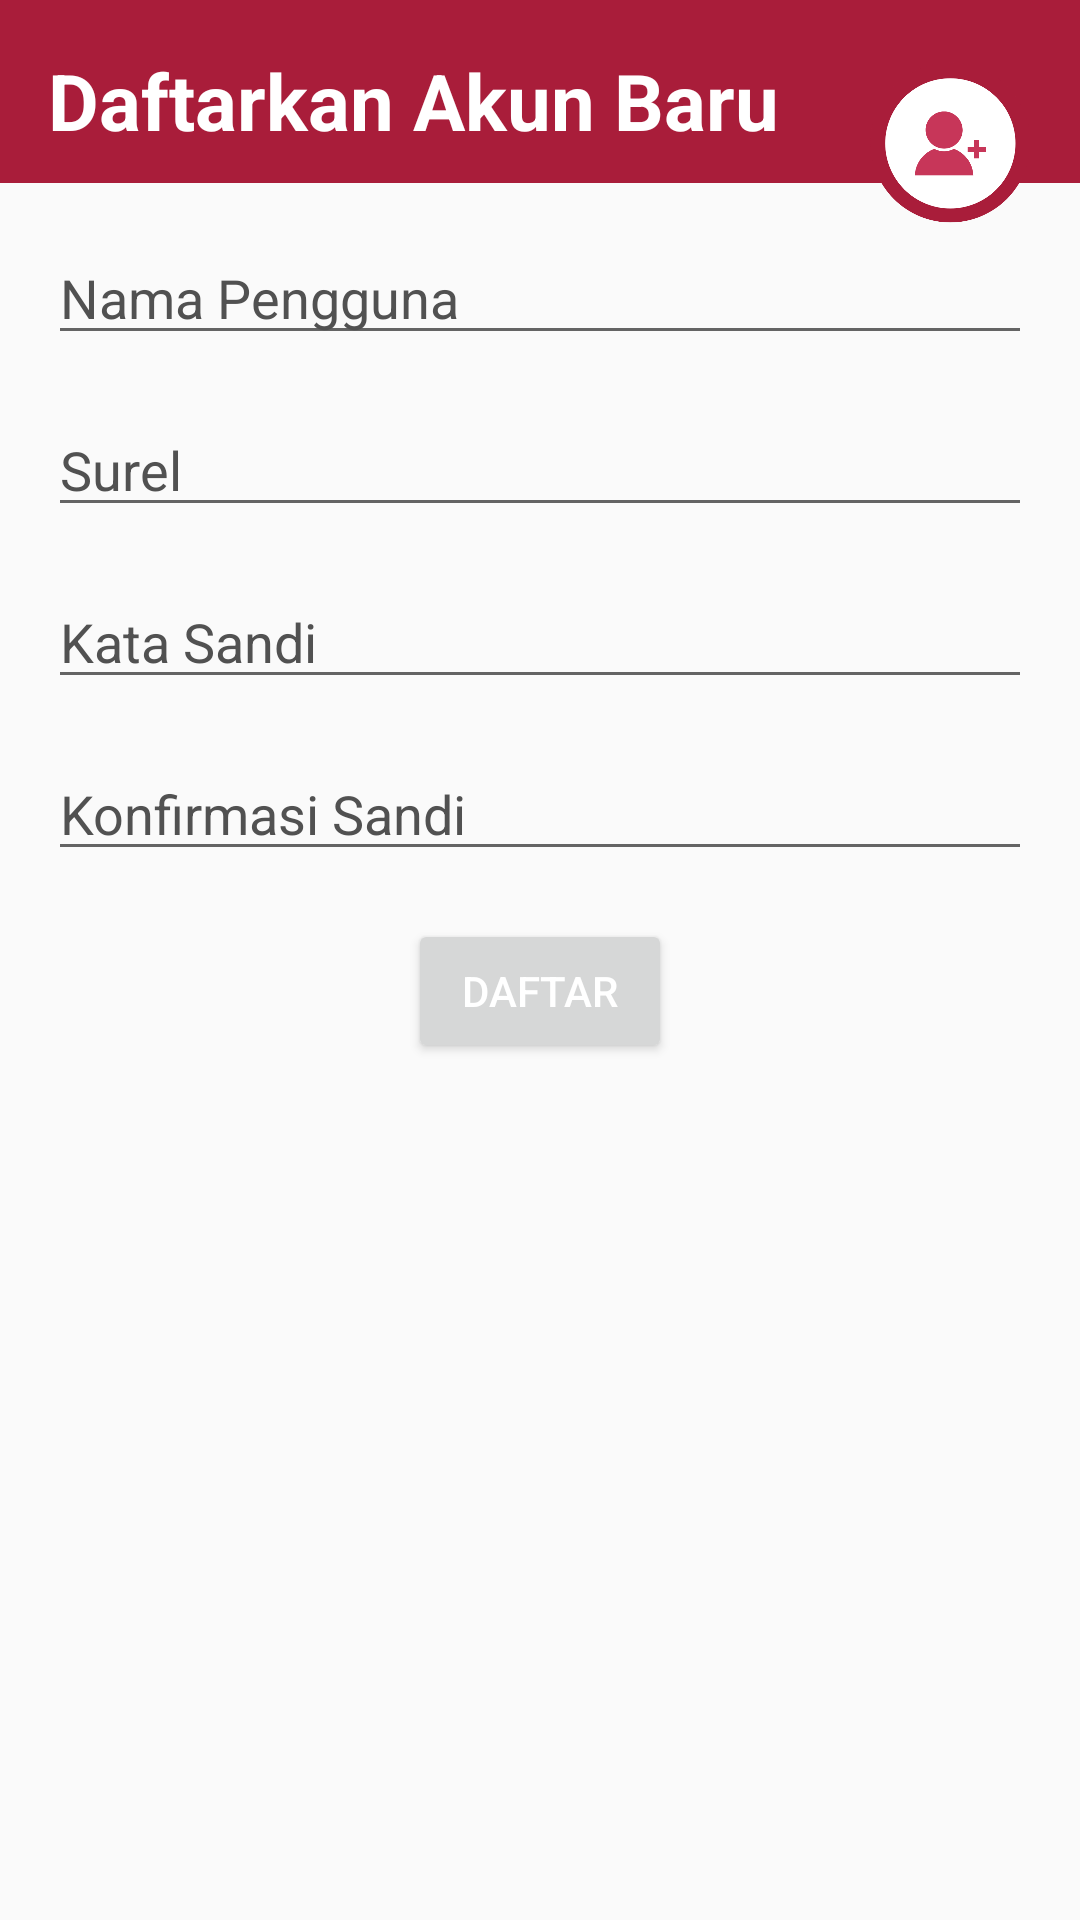

Named icons in this screenshot (1080×1920) and their bounding boxes, (x1, y1, x2, y2):
Foto profil: (885, 78, 1016, 209)
